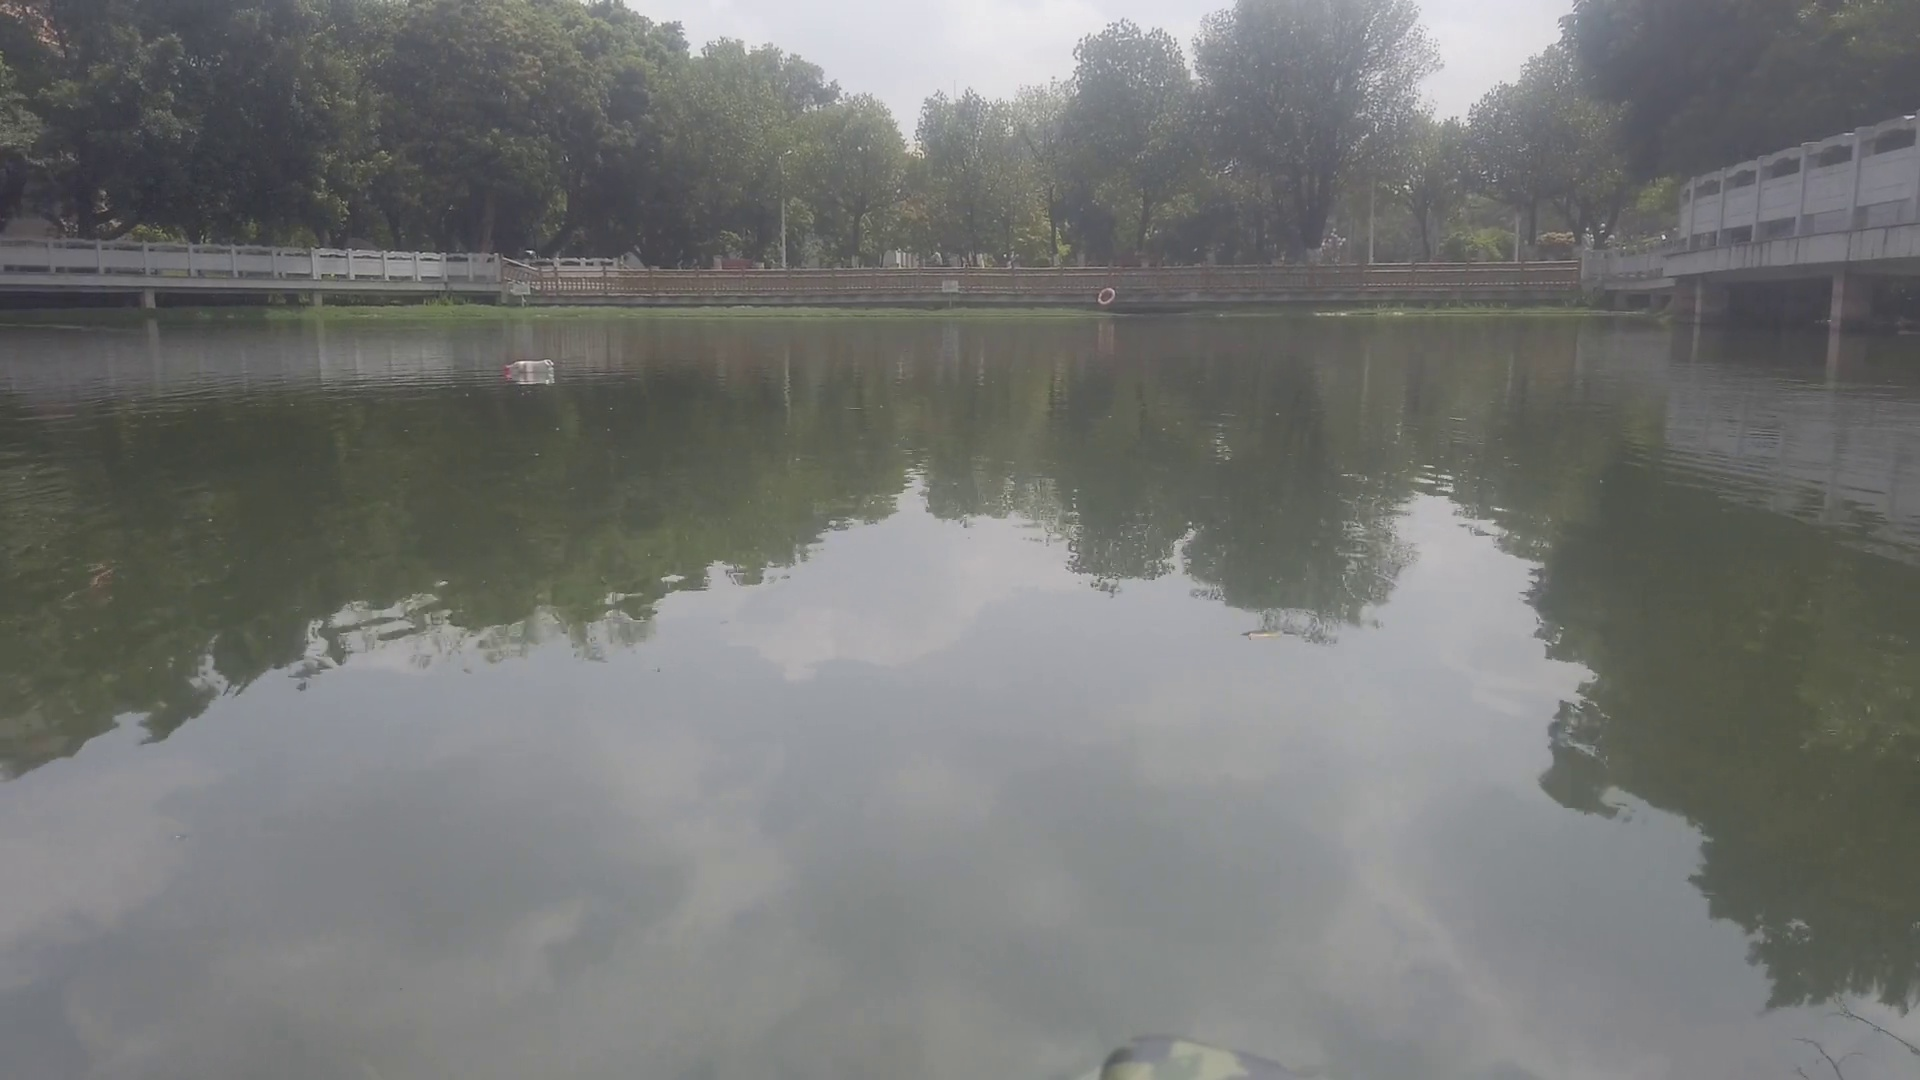bottle: (500, 357, 556, 375)
